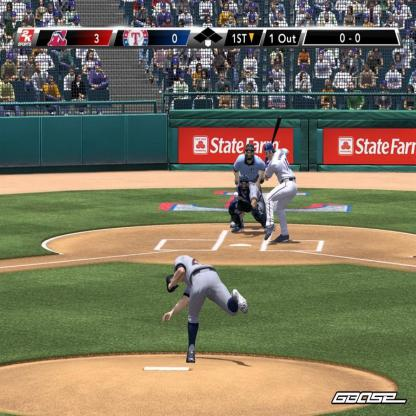face: (246, 149, 254, 161), (266, 150, 274, 161), (241, 180, 248, 191), (173, 60, 179, 71), (303, 74, 308, 83), (96, 65, 101, 73), (36, 63, 41, 71), (202, 71, 207, 79), (242, 71, 247, 79), (275, 84, 280, 92), (214, 48, 219, 56), (326, 82, 331, 90), (302, 46, 307, 54), (369, 53, 374, 61), (396, 56, 401, 64), (161, 6, 166, 14), (180, 21, 185, 29), (250, 17, 255, 25), (278, 13, 283, 21), (55, 14, 59, 23), (70, 69, 75, 76), (29, 57, 34, 64), (71, 5, 76, 12), (198, 67, 203, 74), (225, 87, 230, 94), (249, 52, 254, 59), (319, 54, 324, 61), (309, 12, 314, 19), (348, 9, 353, 16), (90, 52, 94, 60), (78, 75, 82, 83), (6, 76, 10, 84), (9, 56, 13, 64), (28, 7, 32, 15), (50, 6, 54, 14), (76, 18, 80, 26), (181, 76, 185, 84), (221, 74, 225, 82), (197, 51, 201, 59), (248, 85, 252, 93), (276, 64, 280, 72), (277, 56, 281, 64), (350, 83, 354, 91), (392, 65, 396, 73), (185, 7, 189, 15), (207, 16, 211, 24), (244, 18, 248, 26), (225, 4, 229, 12), (371, 4, 375, 12), (389, 16, 393, 24), (382, 84, 387, 90), (50, 77, 54, 84), (8, 5, 12, 12), (13, 15, 17, 22), (270, 74, 274, 81), (342, 65, 346, 72), (365, 65, 369, 72), (350, 51, 354, 58), (167, 17, 171, 24), (230, 17, 234, 24), (300, 6, 304, 13), (326, 4, 330, 11), (407, 32, 411, 39), (365, 17, 369, 24), (326, 14, 329, 23), (40, 1, 44, 7), (147, 18, 151, 24), (141, 4, 145, 10), (271, 4, 275, 10)
